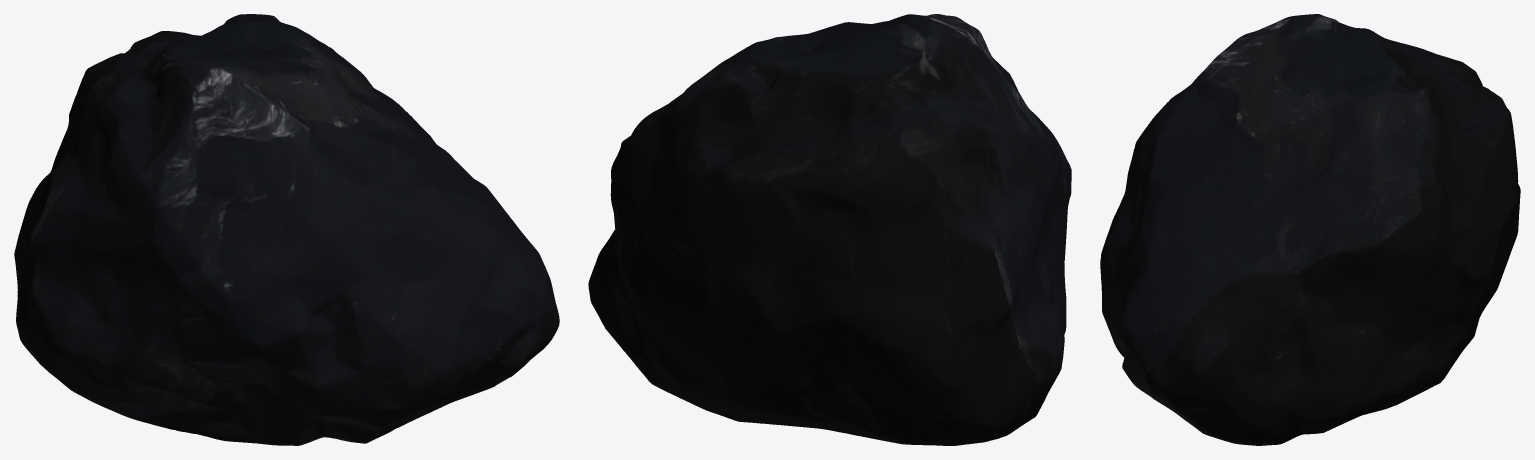
File: AI_CoalOre.fbx
3 views of the same model, side by side, from view 1: azimuth 30°, elevation 25°; view 2: azimuth 150°, elevation 25°; view 3: azimuth 270°, elevation 25° (orthographic). The views are drawn at different scales.
Parts seen in each view (by area): view 1: Mesh1.0; view 2: Mesh1.0; view 3: Mesh1.0.
Boxes of the visible parts, x1,y1,x2,y2 form: Mesh1.0: (14,14,559,445); Mesh1.0: (588,14,1071,445); Mesh1.0: (1100,14,1520,445).
Size of the model in its own units: 200 by 156 by 187.
1 material, 1 textured.
